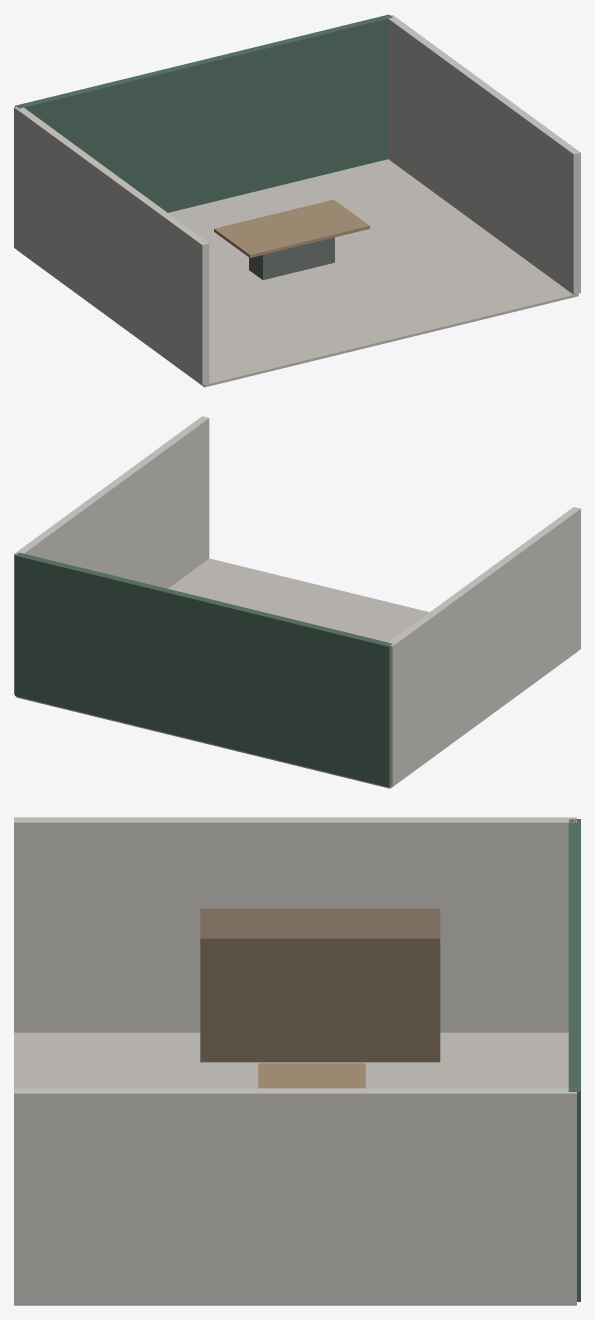
File: sample-room-scan.glb
3 renders of one model, top to bottom at view 1: azimuth 30°, elevation 25°; view 2: azimuth 150°, elevation 25°; view 3: azimuth 270°, elevation 25°, orthographic. The views are drawn at different scales.
Parts seen in each view (by area): view 1: ReconstructedRoomMesh; view 2: ReconstructedRoomMesh; view 3: ReconstructedRoomMesh.
Part boxes in pixels (box(x1,y1,x2,y2)): ReconstructedRoomMesh: box(14, 14, 580, 387); ReconstructedRoomMesh: box(14, 416, 580, 788); ReconstructedRoomMesh: box(14, 817, 580, 1305).
Size of the model in its own units: 7.9 by 2.85 by 6.85.
